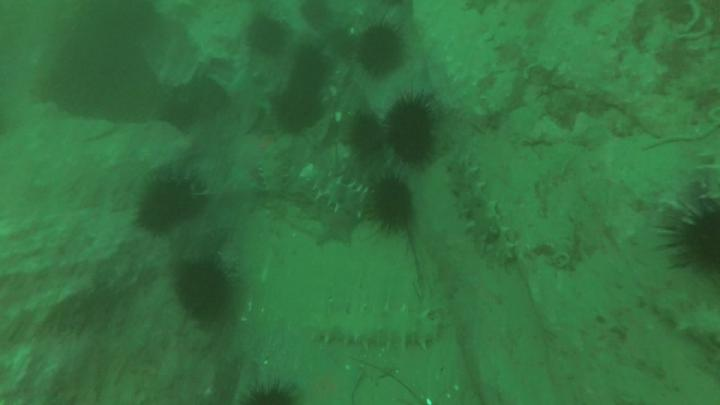echinus: (177, 264, 231, 321), (142, 184, 208, 230), (385, 98, 437, 155), (357, 27, 407, 74), (376, 178, 414, 232), (270, 91, 321, 130), (163, 90, 200, 128), (252, 19, 289, 55), (348, 118, 382, 157), (295, 48, 328, 83), (303, 5, 329, 29)
holothurian: (444, 162, 518, 262), (315, 308, 439, 350), (648, 290, 720, 342), (303, 166, 370, 218), (257, 149, 286, 198)
starfish: (291, 360, 363, 405)
